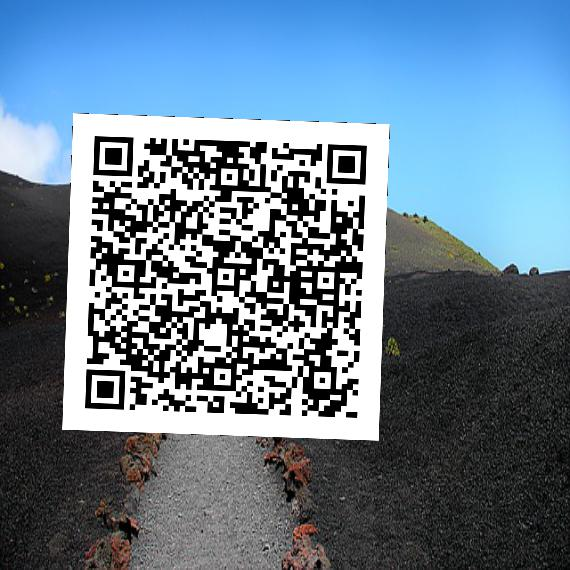qr_code: (62, 113, 389, 440)
